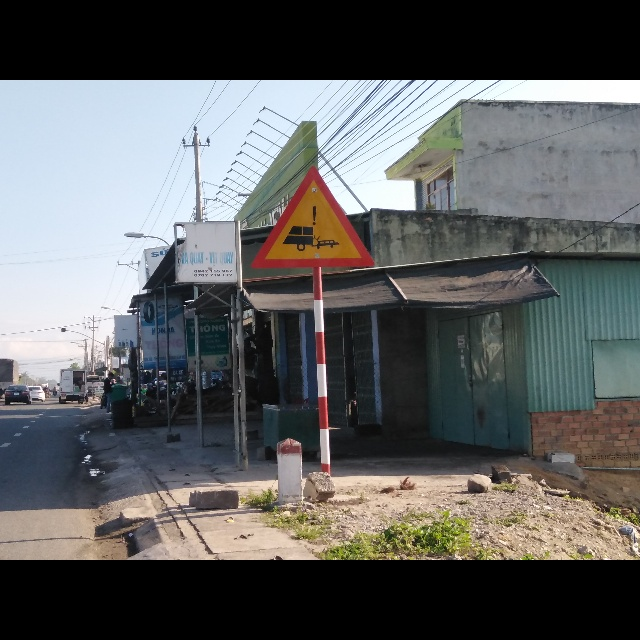Đoạn đường hay xảy ra tai nạn: (253, 166, 375, 269)
